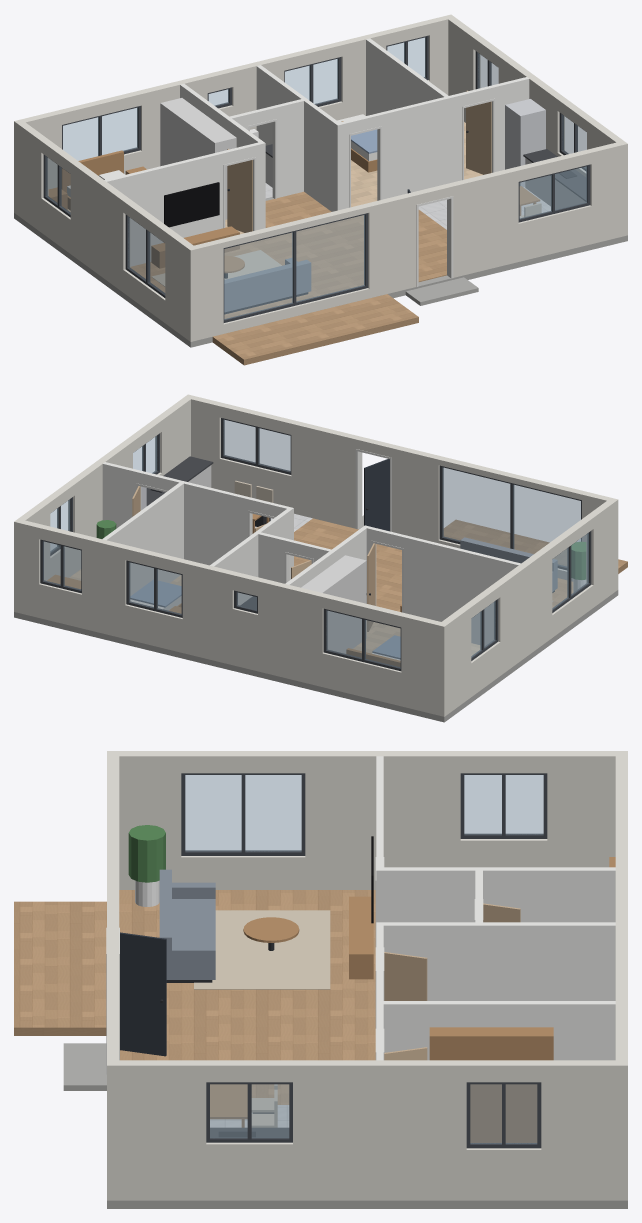
Rendered from house.obj.
3 views of the same model, one above another, from view 1: azimuth 30°, elevation 25°; view 2: azimuth 150°, elevation 25°; view 3: azimuth 270°, elevation 25° (orthographic). The views are drawn at different scales.
Parts seen in each view (by area): view 1: Wall_Ext_Front, Wall_Ext_Left, Wall_Ext_Back, Window_01, Floor_Living, Wall_Int_Room2, Deck_Front, Wall_Int_Master, Wall_Ext_Right, Wall_Int_HallSide, Furn_Wardrobe, Wall_Int_Room2Side (+29 smaller); view 2: Wall_Ext_Back, Wall_Ext_Front, Wall_Ext_Left, Window_01, Wall_Int_Master, Wall_Ext_Right, Wall_Int_Room2, Wall_Int_Room2Side, Slab_Base, Window_03, Floor_Living, Furn_Wardrobe (+20 smaller); view 3: Wall_Ext_Right, Wall_Ext_Left, Floor_Living, Wall_Int_HallSide, Deck_Front, Wall_Int_MasterSide, Window_08, Wall_Int_Room2Side, Furn_Rug, Furn_Bookshelf, Wall_Ext_Front, Wall_Ext_Back (+16 smaller).
Part boxes in pixels (bbox=[...]): Wall_Ext_Front: bbox=[186, 140, 627, 341]; Wall_Ext_Left: bbox=[18, 122, 193, 338]; Wall_Ext_Back: bbox=[14, 14, 454, 215]; Window_01: bbox=[223, 213, 367, 322]; Floor_Living: bbox=[130, 210, 446, 318]; Wall_Int_Room2: bbox=[335, 96, 451, 210]; Deck_Front: bbox=[212, 294, 418, 365]; Wall_Int_Master: bbox=[104, 141, 265, 266]; Wall_Ext_Right: bbox=[448, 17, 623, 176]; Wall_Int_HallSide: bbox=[256, 65, 341, 211]; Furn_Wardrobe: bbox=[160, 98, 236, 219]; Wall_Int_Room2Side: bbox=[366, 38, 448, 115]; Wall_Ext_Back: bbox=[14, 519, 448, 716]; Wall_Ext_Front: bbox=[184, 394, 618, 592]; Wall_Ext_Left: bbox=[442, 501, 614, 713]; Window_01: bbox=[439, 465, 581, 570]; Wall_Int_Master: bbox=[363, 525, 520, 645]; Wall_Ext_Right: bbox=[18, 397, 190, 580]; Wall_Int_Room2: bbox=[180, 481, 293, 565]; Wall_Int_Room2Side: bbox=[102, 482, 183, 595]; Slab_Base: bbox=[14, 527, 618, 722]; Window_03: bbox=[323, 608, 401, 671]; Floor_Living: bbox=[294, 518, 573, 611]; Furn_Wardrobe: bbox=[301, 555, 366, 653]; Wall_Ext_Right: bbox=[119, 1060, 615, 1200]; Wall_Ext_Left: bbox=[119, 751, 615, 889]; Floor_Living: bbox=[119, 890, 375, 1104]; Wall_Int_HallSide: bbox=[376, 922, 615, 1000]; Deck_Front: bbox=[14, 901, 106, 1035]; Wall_Int_MasterSide: bbox=[376, 867, 615, 922]; Window_08: bbox=[181, 773, 305, 855]; Wall_Int_Room2Side: bbox=[383, 1001, 615, 1060]; Furn_Rug: bbox=[194, 910, 330, 989]; Furn_Bookshelf: bbox=[429, 1027, 553, 1142]; Wall_Ext_Front: bbox=[107, 751, 119, 1200]; Wall_Ext_Back: bbox=[615, 751, 627, 1200].
Bounding box in the file's own units: 12 × 2.55 × 9.9.
26 materials, 5 textured.
